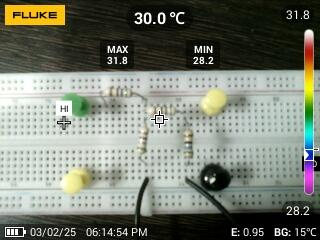resistor: (181, 127, 196, 164), (144, 103, 179, 118), (103, 85, 135, 100), (136, 123, 149, 159)
